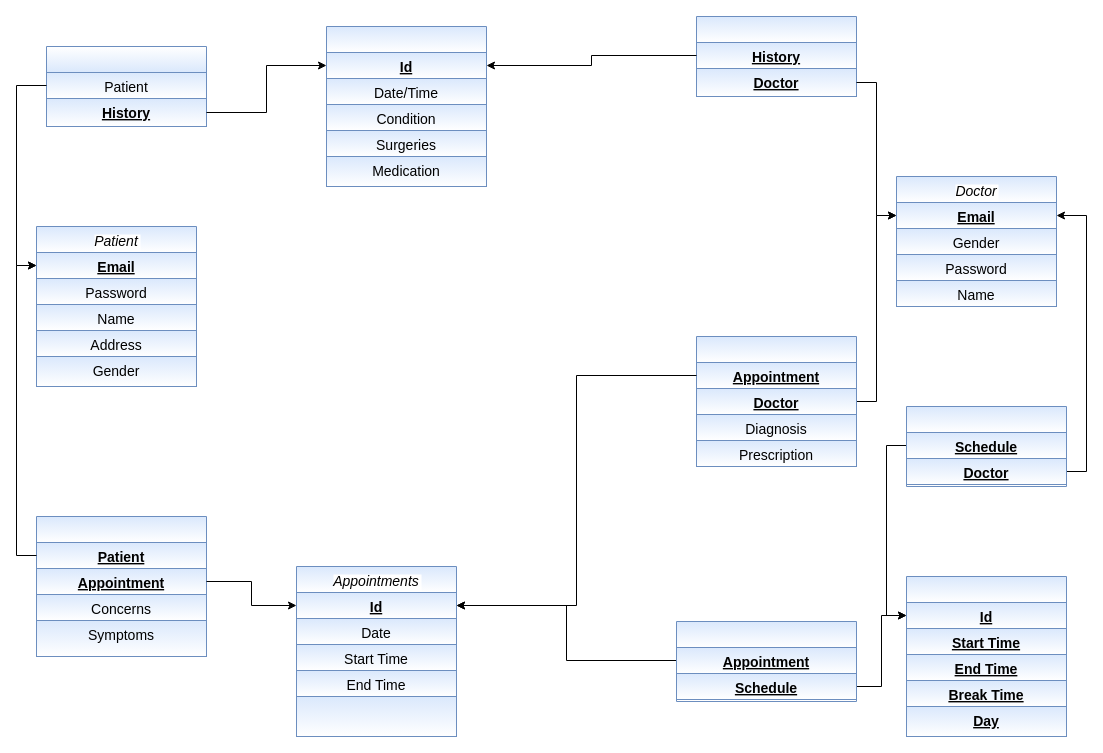
This 1103x753 diagram has some shape labels left out. The shapes that lost their labels are listed below. From the top down, each one's box as (x1, y1, x2, y2) in pixels, then its label:
(696, 16, 856, 96): DoctorsViewHistory
(46, 46, 206, 126): PatientsFillHistory
(326, 26, 486, 186): Medical History
(696, 336, 856, 466): Diagnose
(906, 406, 1066, 486): DoctorsHaveSchedules
(36, 516, 206, 656): PatientsAttendAppointments
(676, 620, 856, 702): AppointmentsToSchedules
(906, 576, 1066, 736): Schedules
(296, 696, 456, 736): Status
